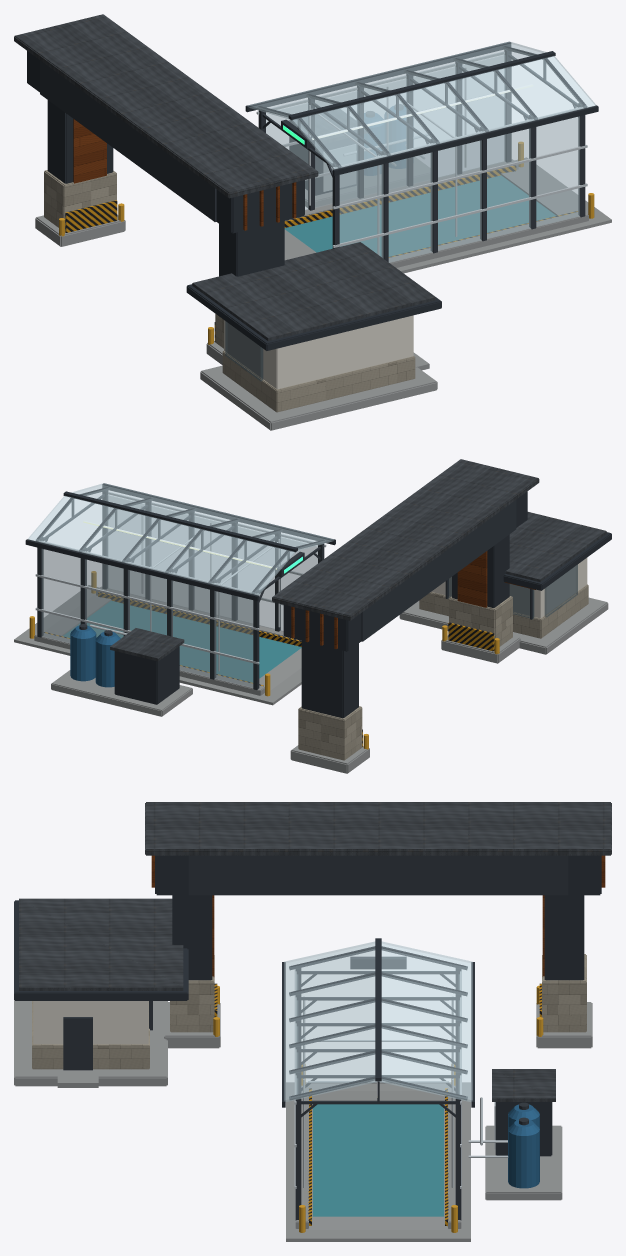
File: disinfect_gate.glb
3 renders of one model, top to bottom at view 1: azimuth 30°, elevation 25°; view 2: azimuth 150°, elevation 25°; view 3: azimuth 270°, elevation 25°, orthographic. The views are drawn at different scales.
Visible parts, largest first — view 1: Gate_SprayPoly, Gate_RoofSlate, Gate_DarkSteel, Gate_ArchSlate, Gate_GateConc, Gate_DisinfectWater, Gate_GuardWall, Gate_AshlarStone, Gate_StainlessGalv, Gate_HazardStripe, Gate_CedarSoffit, Gate_ClearGlass (+2 smaller); view 2: Gate_SprayPoly, Gate_RoofSlate, Gate_ArchSlate, Gate_DarkSteel, Gate_GateConc, Gate_AshlarStone, Gate_DisinfectWater, Gate_StainlessGalv, Gate_ChemTankBlue, Gate_GuardWall, Gate_HazardStripe, Gate_CedarSoffit (+2 smaller); view 3: Gate_RoofSlate, Gate_GateConc, Gate_DarkSteel, Gate_SprayPoly, Gate_ArchSlate, Gate_DisinfectWater, Gate_AshlarStone, Gate_GuardWall, Gate_ChemTankBlue, Gate_StainlessGalv, Gate_HazardStripe, Gate_SafetyYellow (+1 smaller).
Boxes of the visible parts, box(x1,y1,x2,y2) form: Gate_SprayPoly: box(248, 41, 596, 262); Gate_RoofSlate: box(14, 14, 435, 341); Gate_DarkSteel: box(40, 46, 586, 261); Gate_ArchSlate: box(27, 42, 598, 350); Gate_GateConc: box(35, 157, 611, 430); Gate_DisinfectWater: box(284, 175, 555, 256); Gate_GuardWall: box(224, 315, 413, 389); Gate_AshlarStone: box(44, 170, 415, 412); Gate_StainlessGalv: box(256, 51, 587, 255); Gate_HazardStripe: box(65, 165, 577, 341); Gate_CedarSoffit: box(73, 119, 296, 230); Gate_ClearGlass: box(225, 321, 263, 381); Gate_SprayPoly: box(28, 483, 333, 687); Gate_RoofSlate: box(110, 459, 606, 661); Gate_ArchSlate: box(25, 483, 611, 718); Gate_DarkSteel: box(36, 487, 533, 689); Gate_GateConc: box(14, 585, 608, 773); Gate_AshlarStone: box(298, 584, 588, 760); Gate_DisinfectWater: box(63, 601, 301, 682); Gate_StainlessGalv: box(35, 492, 326, 670); Gate_ChemTankBlue: box(70, 625, 120, 687); Gate_GuardWall: box(431, 558, 587, 618); Gate_HazardStripe: box(44, 592, 494, 746); Gate_CedarSoffit: box(291, 551, 535, 649); Gate_RoofSlate: box(19, 802, 611, 1101); Gate_GateConc: box(14, 1000, 592, 1241); Gate_DarkSteel: box(63, 855, 568, 1220); Gate_SprayPoly: box(284, 941, 472, 1101); Gate_ArchSlate: box(14, 855, 601, 1156); Gate_DisinfectWater: box(313, 1104, 443, 1216); Gate_AshlarStone: box(32, 954, 586, 1069); Gate_GuardWall: box(33, 1001, 148, 1044); Gate_ChemTankBlue: box(508, 1104, 539, 1188); Gate_StainlessGalv: box(294, 969, 508, 1188); Gate_HazardStripe: box(214, 983, 541, 1226); Gate_SafetyYellow: box(213, 985, 543, 1232).
Size of the model in its own units: 23 by 8.86 by 23.3.
Materials: 17 (4 with a texture image).
